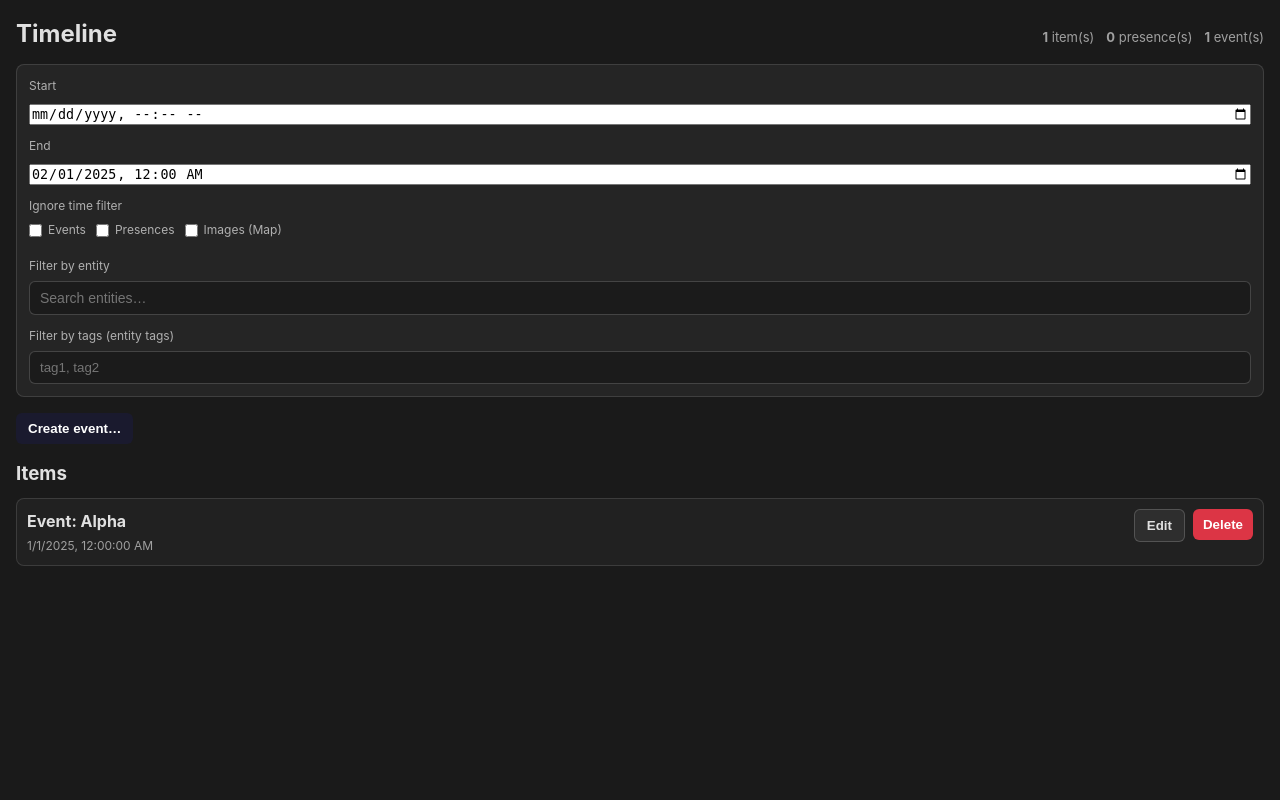
TimelineView (Timeline) › edits an event and saves via update mutation
Expected: the text "Event: Alpha" is shown, x1=27 y1=511 x2=126 y2=531
Click the button "Edit": point(1159, 526) x1=1134 y1=509 x2=1185 y2=542
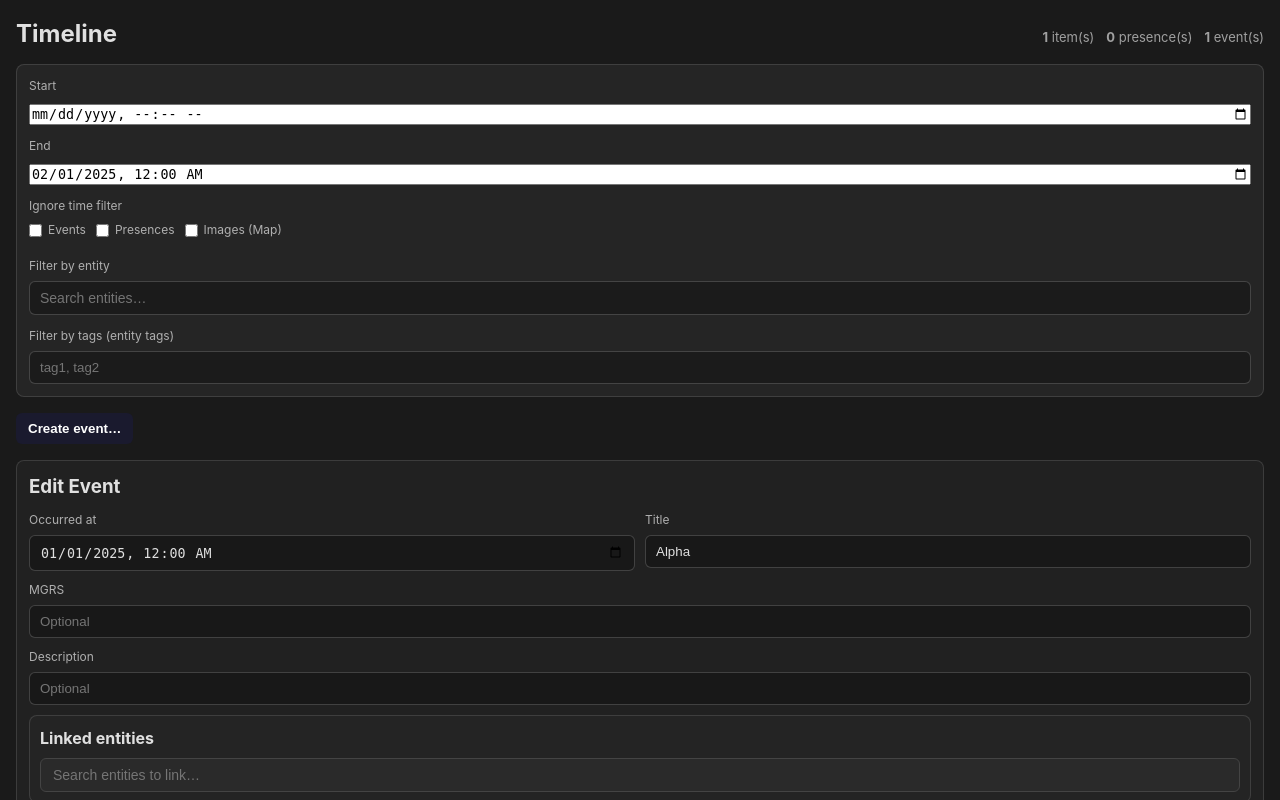
Now the heading "Edit Event" is shown, box x1=29 y1=475 x2=120 y2=498
Now the element "Edit Event" is shown, box x1=16 y1=460 x2=1264 y2=799
Replace the text in the field labelled "Title" with "Alpha Edited": point(948, 552) x1=645 y1=535 x2=1251 y2=568
(page scrolled)
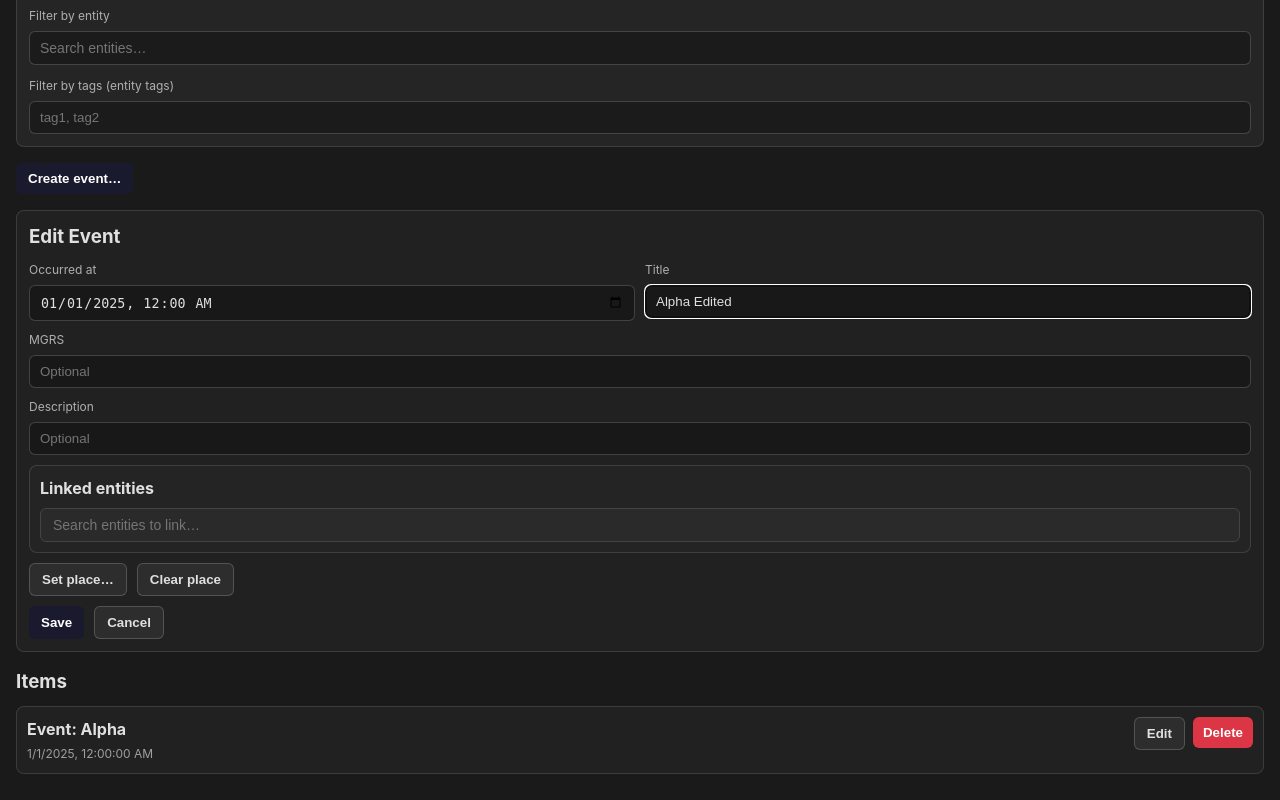
Click the button "Save": point(57, 622) x1=29 y1=606 x2=84 y2=639
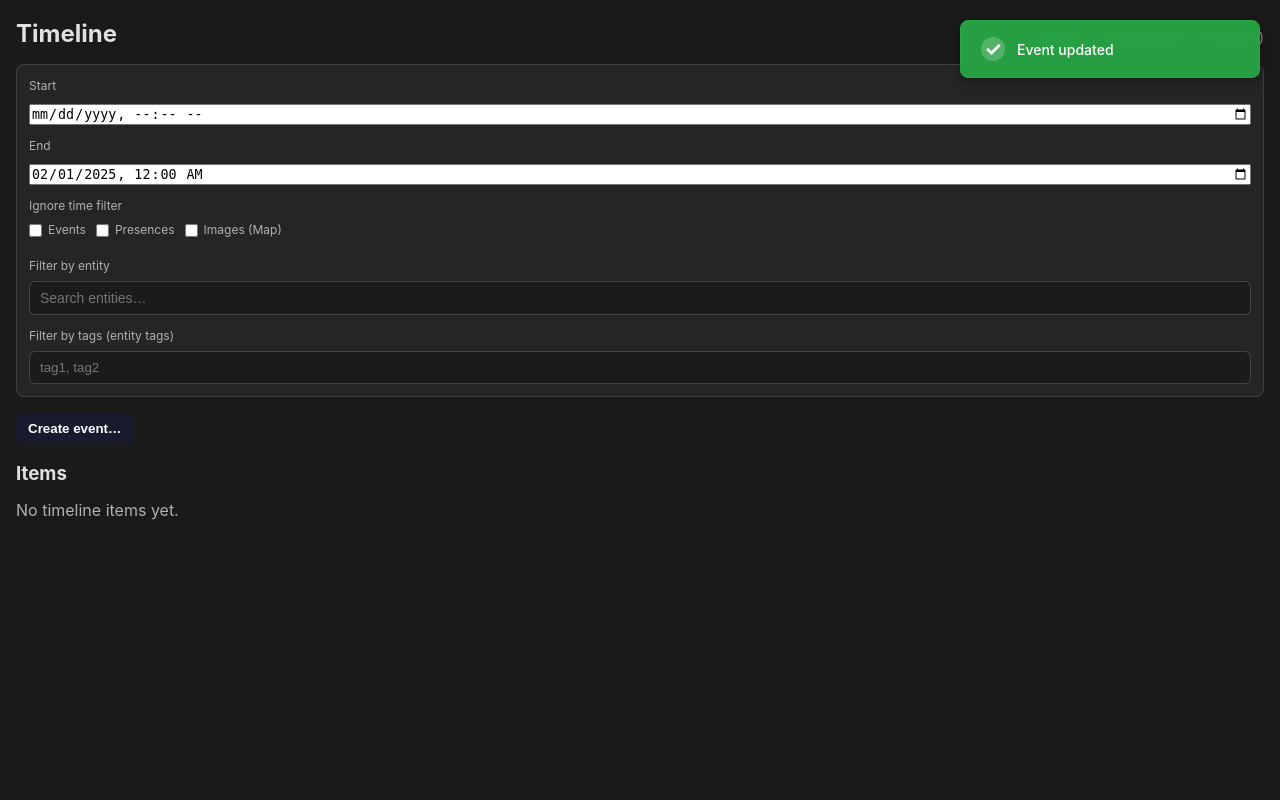
Now the text "Event updated" is shown, box x1=1017 y1=40 x2=1114 y2=58
